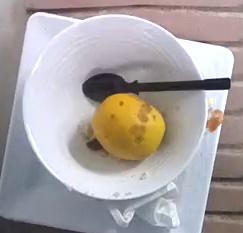fruit: (92, 93, 165, 160)
